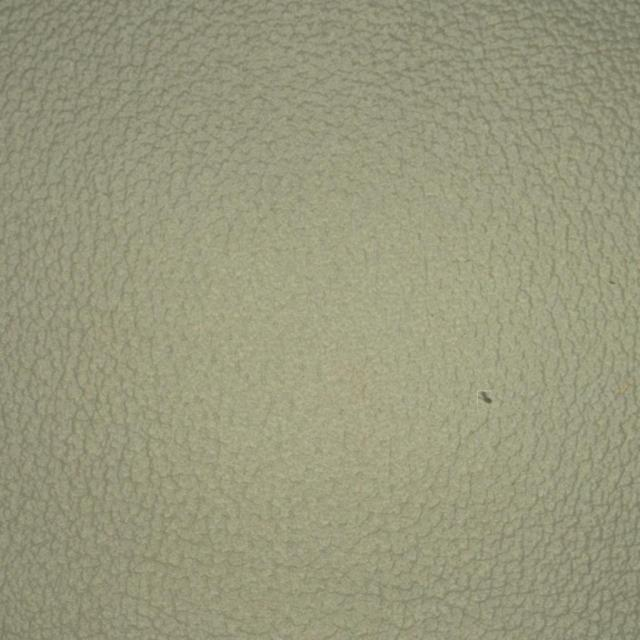pinhole: (442, 298, 538, 481)
